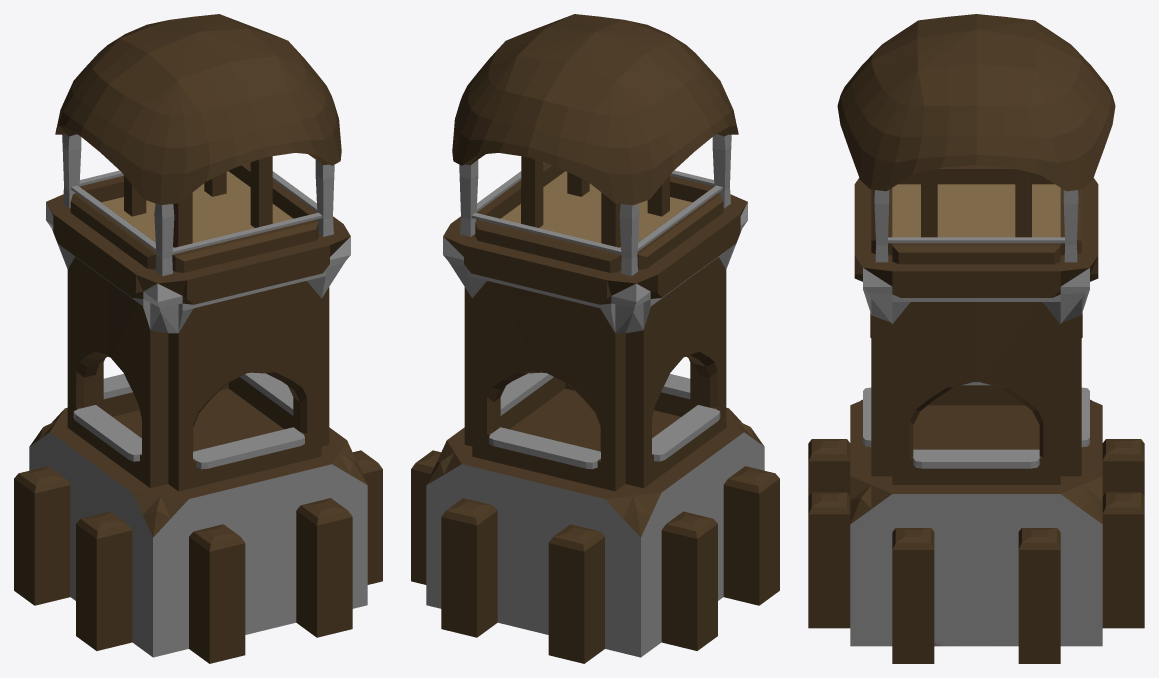
File: vez.fbx
The picture shows the model from 3 angles, left to right: view 1: azimuth 30°, elevation 25°; view 2: azimuth 150°, elevation 25°; view 3: azimuth 270°, elevation 25°; orthographic projection.
Visible parts, largest first — view 1: Cube.001; view 2: Cube.001; view 3: Cube.001.
Boxes of the visible parts, x1,y1,x2,y2 form: Cube.001: [14, 14, 382, 663]; Cube.001: [411, 14, 779, 663]; Cube.001: [808, 14, 1144, 663].
Bounding box in the file's own units: 800 × 1480 × 800.
